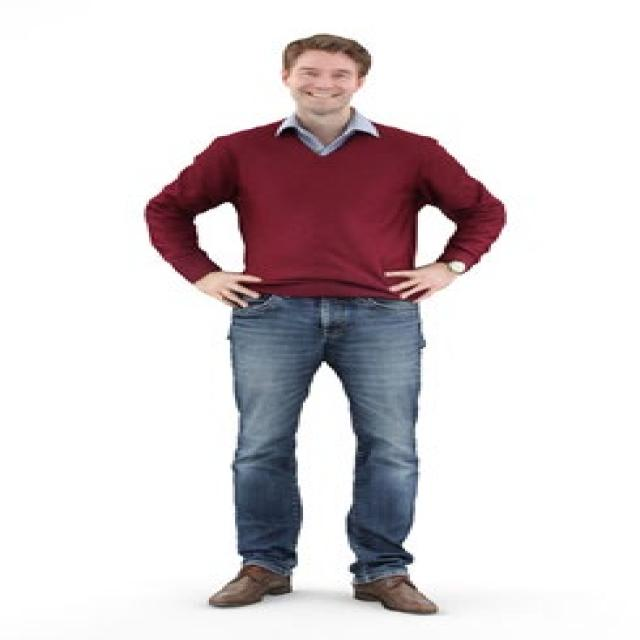standing: (140, 29, 508, 617)
